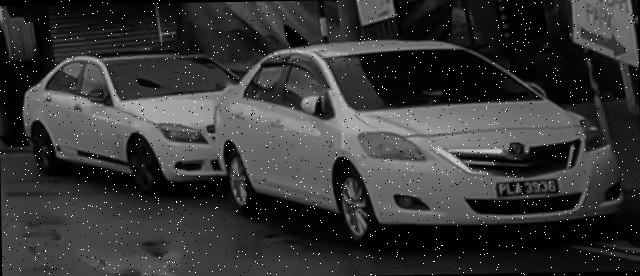License_Plate: (496, 177, 561, 198)
car: (213, 35, 627, 246), (22, 51, 244, 197)
